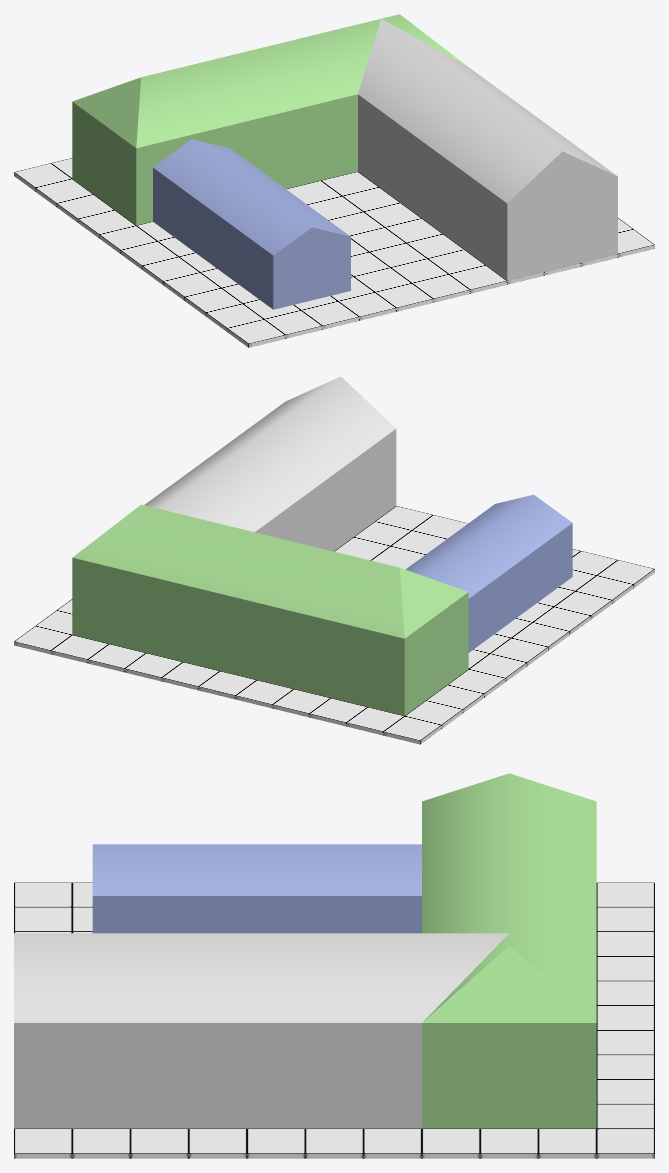
The model's file is XG_Healers-Hut.glb.
3 views of the same model, one above another, from view 1: azimuth 30°, elevation 25°; view 2: azimuth 150°, elevation 25°; view 3: azimuth 270°, elevation 25° (orthographic). The views are drawn at different scales.
Visible parts, largest first — view 1: Box845, building_9m_3m_048, ground_11_x_11_027, building_9m_3m_047; view 2: building_9m_3m_048, ground_11_x_11_027, Box845, building_9m_3m_047; view 3: Box845, building_9m_3m_048, ground_11_x_11_027, building_9m_3m_047.
Part boxes in pixels (bbox=[...]): Box845: bbox=[358, 18, 617, 280]; building_9m_3m_048: bbox=[72, 14, 467, 225]; ground_11_x_11_027: bbox=[14, 158, 654, 347]; building_9m_3m_047: bbox=[153, 139, 350, 309]; building_9m_3m_048: bbox=[72, 504, 468, 715]; ground_11_x_11_027: bbox=[14, 506, 654, 744]; Box845: bbox=[144, 376, 396, 551]; building_9m_3m_047: bbox=[406, 494, 572, 652]; Box845: bbox=[14, 933, 510, 1128]; building_9m_3m_048: bbox=[422, 773, 596, 1128]; ground_11_x_11_027: bbox=[14, 882, 654, 1158]; building_9m_3m_047: bbox=[92, 844, 421, 933].
Bounding box in the file's own units: 11 × 3.1 × 11.
Materials: 3 (1 with a texture image).
